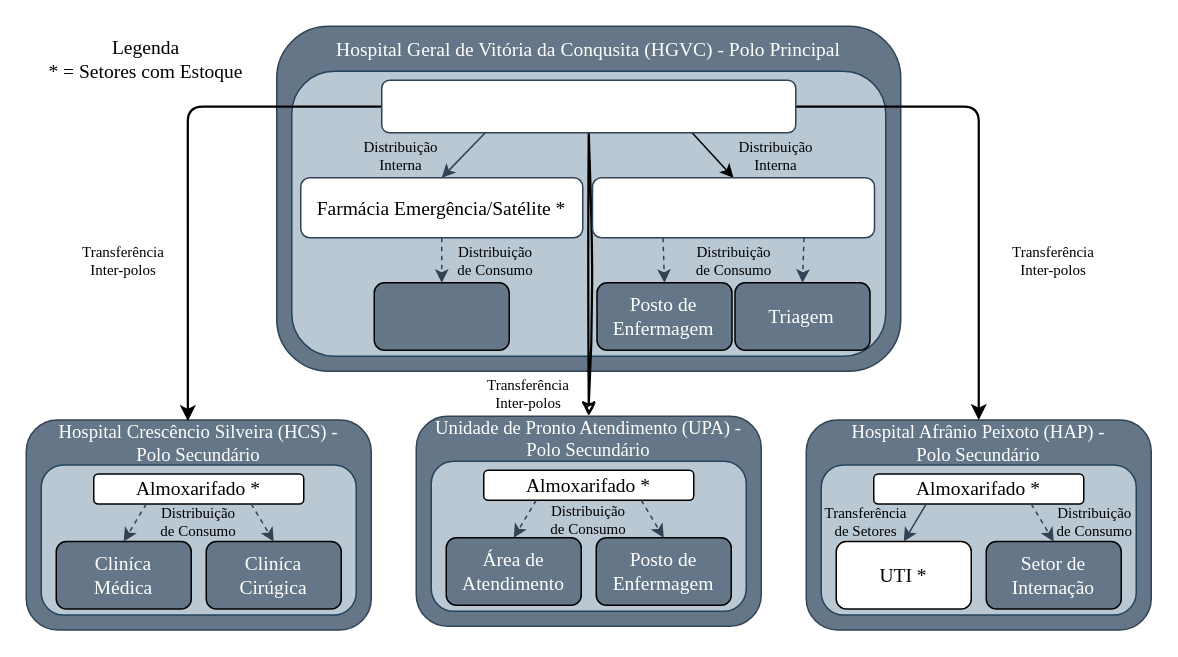
The diagram is 1178 pixels wide and 657 high, and some of its shapes have lost their labels. Each missing label, with the centre of its shape:
"Central de Abastecimento Farmacêutico (CAF) (Estoque Principal) *" belongs at (x=588, y=106).
"Enfermaria" belongs at (x=441, y=315).
"Farmácia de Dispensação *" belongs at (x=732, y=207).
